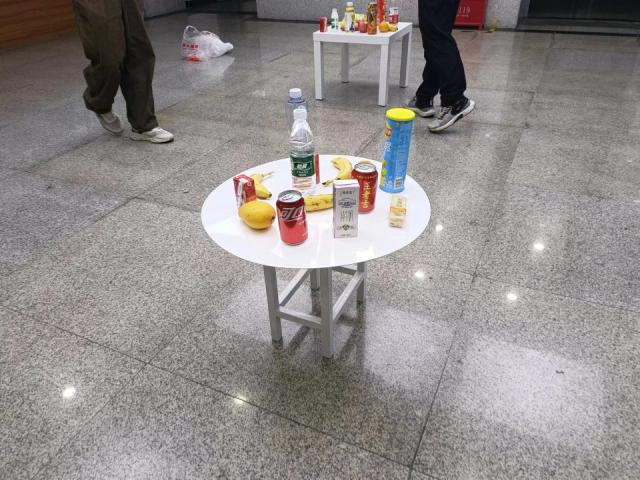Canned_drinks: (275, 190, 311, 245), (350, 162, 379, 214)
bottle: (287, 108, 317, 191), (283, 86, 310, 126)
cylinder: (378, 106, 416, 194)
drink_box: (332, 178, 359, 240), (231, 173, 258, 211)
